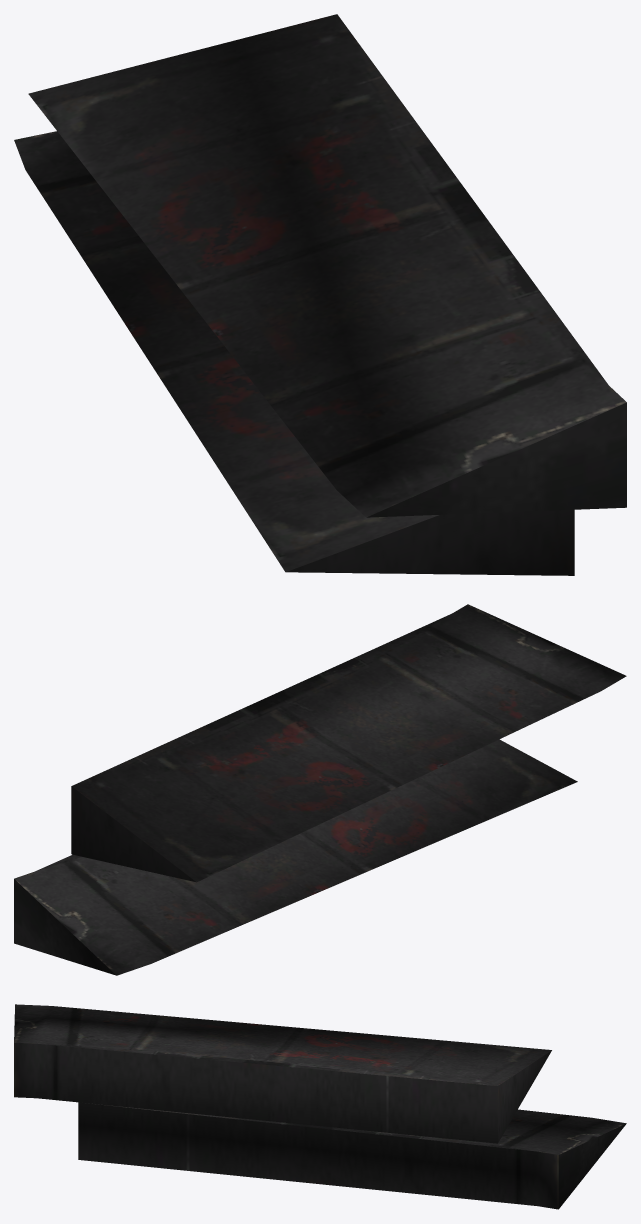
The model's file is t6_attach_fastmag_saiga_world_LOD2.obj.
3 renders of one model, top to bottom at view 1: azimuth 30°, elevation 25°; view 2: azimuth 150°, elevation 25°; view 3: azimuth 270°, elevation 25°, orthographic. The views are drawn at different scales.
Parts seen in each view (by area): view 1: mtl_t6_wpn_shotty_saiga; view 2: mtl_t6_wpn_shotty_saiga; view 3: mtl_t6_wpn_shotty_saiga.
Boxes of the visible parts, x1,y1,x2,y2 form: mtl_t6_wpn_shotty_saiga: [14, 14, 626, 575]; mtl_t6_wpn_shotty_saiga: [14, 604, 626, 975]; mtl_t6_wpn_shotty_saiga: [14, 1004, 626, 1209].
Size of the model in its own units: 12.96 by 5.87 by 28.12.
